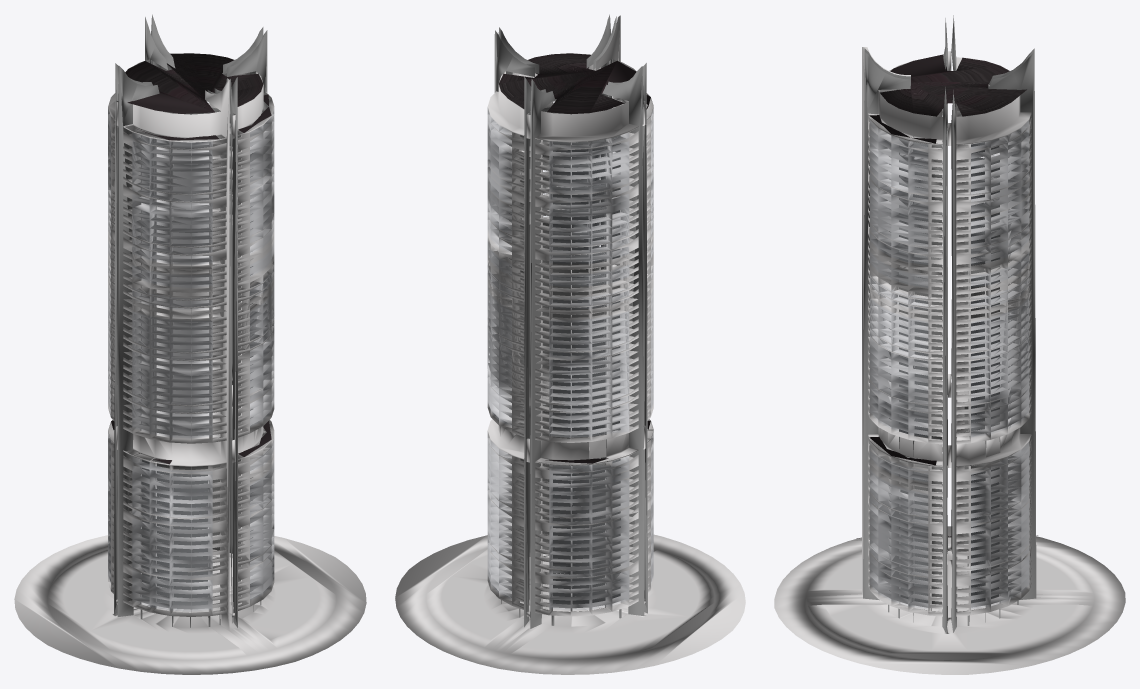
Rendered from building-4.glb.
The picture shows the model from 3 angles, left to right: view 1: azimuth 30°, elevation 25°; view 2: azimuth 150°, elevation 25°; view 3: azimuth 270°, elevation 25°; orthographic projection.
Visible parts, largest first — view 1: part_00, part_02, part_04, part_03, part_01; view 2: part_00, part_02, part_01, part_03, part_04; view 3: part_00, part_02, part_01, part_03, part_04.
Part boxes in pixels (left/top/right/bottom): part_00: left=14, top=59, right=366, bottom=674; part_02: left=114, top=14, right=267, bottom=627; part_04: left=111, top=53, right=271, bottom=464; part_03: left=108, top=58, right=274, bottom=615; part_01: left=133, top=107, right=253, bottom=605; part_00: left=395, top=15, right=745, bottom=674; part_02: left=494, top=14, right=647, bottom=628; part_01: left=509, top=107, right=620, bottom=604; part_03: left=490, top=53, right=653, bottom=616; part_04: left=499, top=53, right=650, bottom=463; part_00: left=774, top=47, right=1125, bottom=674; part_02: left=863, top=15, right=1036, bottom=632; part_01: left=888, top=113, right=1009, bottom=604; part_03: left=870, top=84, right=1030, bottom=611; part_04: left=869, top=54, right=1026, bottom=465.
Bounding box in the file's own units: 682 × 1178 × 680.
5 materials, 2 textured.
